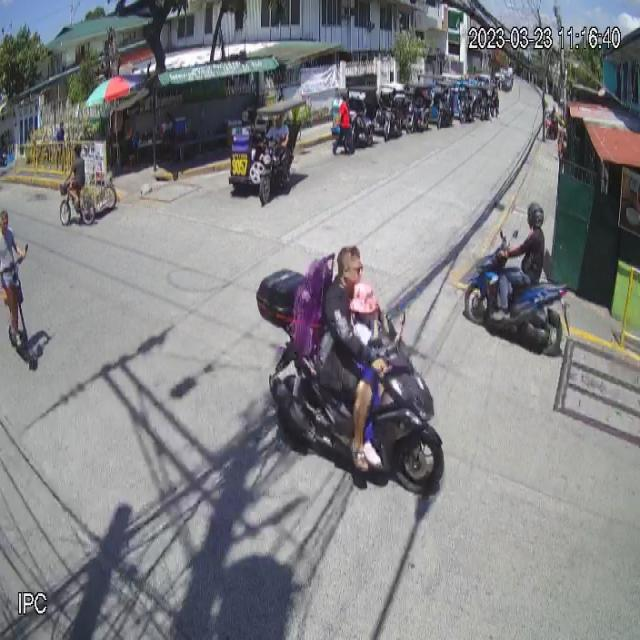Motorcycle: (255, 267, 444, 494), (462, 228, 571, 358)
Tricycle: (228, 92, 308, 208)
